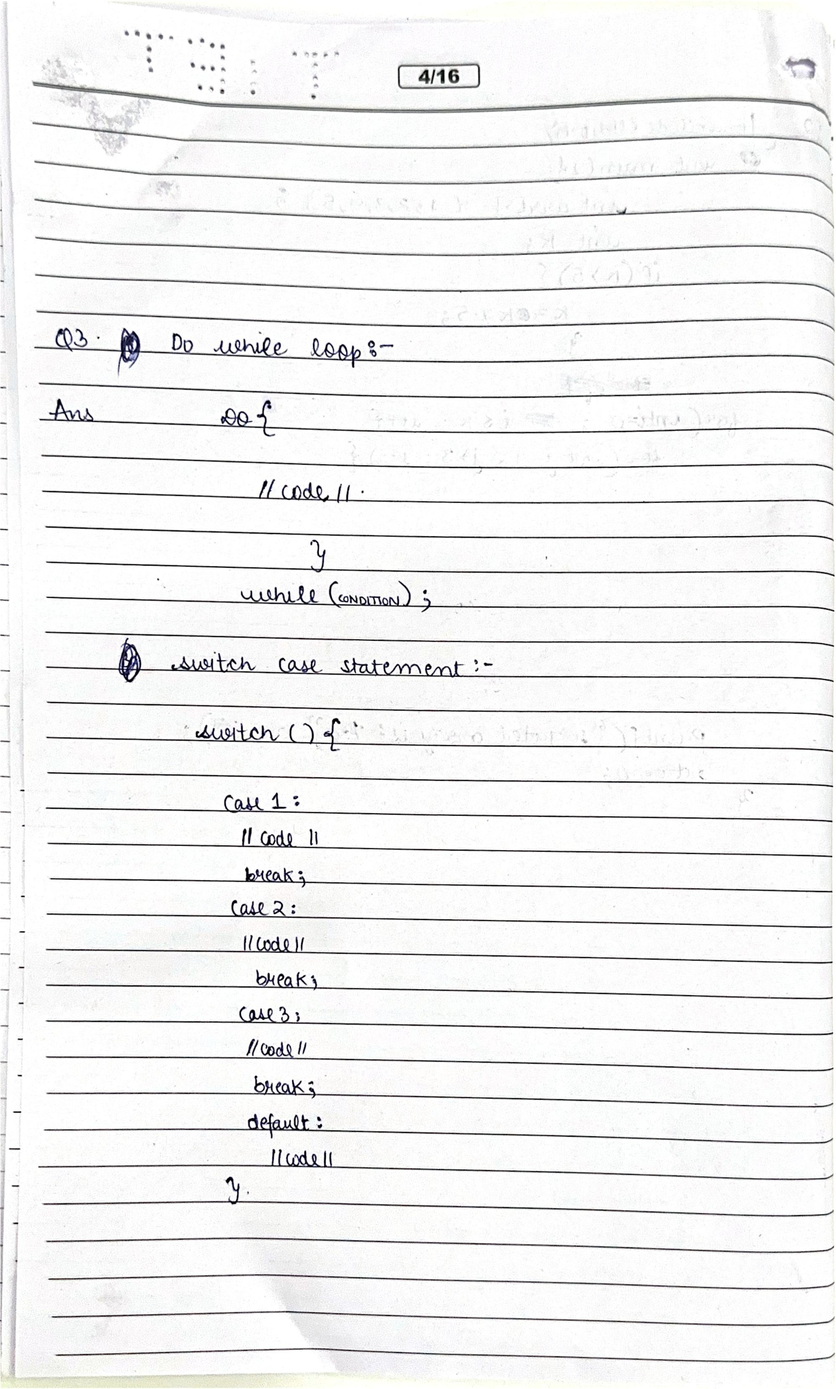cuttings: (117, 326, 142, 378), (118, 637, 142, 683)
